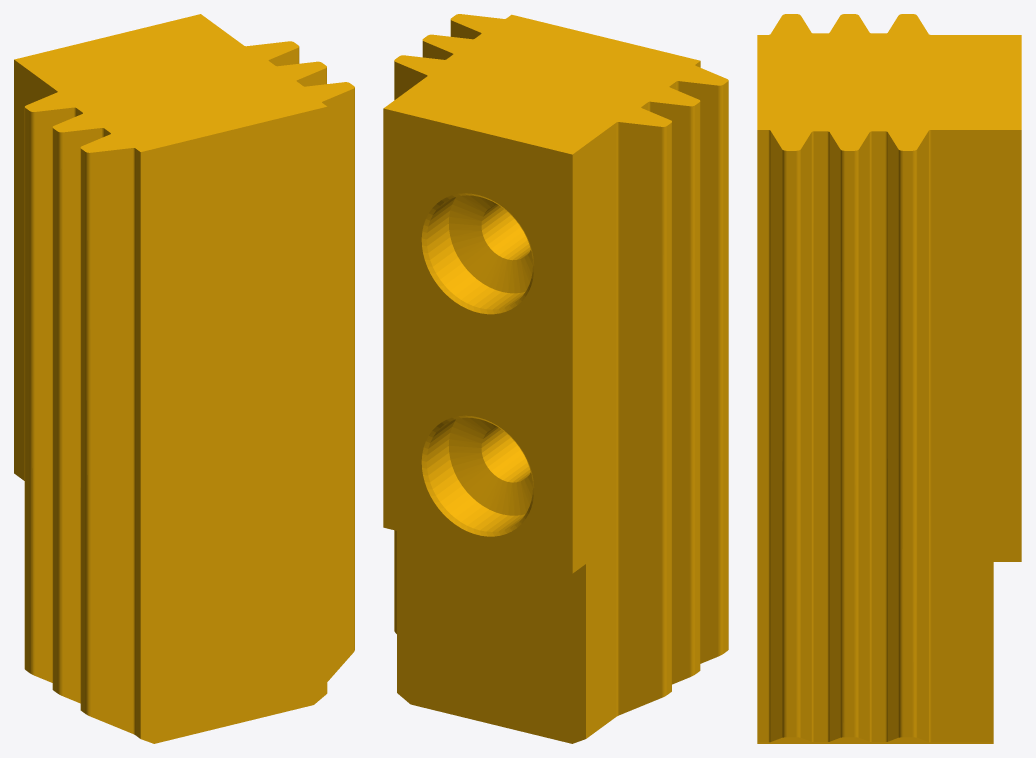
The model's file is jaw_right.dae.
3 renders of one model, left to right at view 1: azimuth 30°, elevation 25°; view 2: azimuth 150°, elevation 25°; view 3: azimuth 270°, elevation 25°, orthographic. The views are drawn at different scales.
Parts seen in each view (by area): view 1: ID2; view 2: ID2; view 3: ID2.
Boxes of the visible parts, box(x1,y1,x2,y2) form: ID2: box(14, 14, 354, 743); ID2: box(383, 14, 728, 743); ID2: box(757, 14, 1021, 743).
Size of the model in its own units: 0.0256 by 0.0209 by 0.0542.
